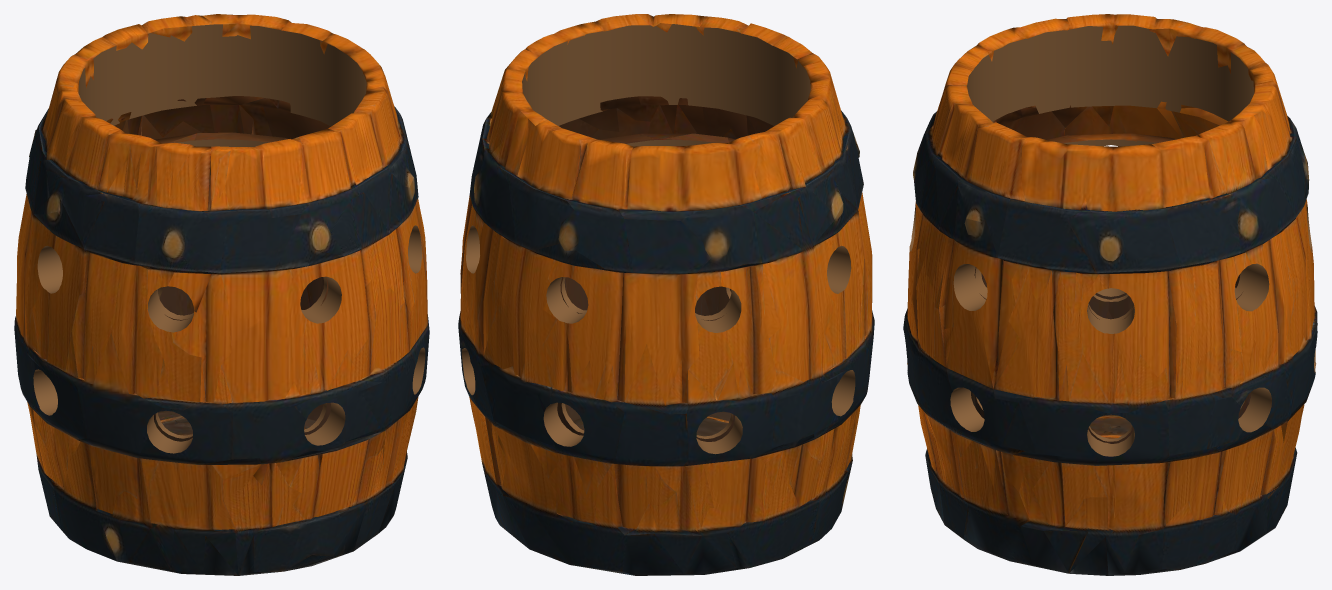
Rendered from barrel.glb.
3 views of the same model, side by side, from view 1: azimuth 30°, elevation 25°; view 2: azimuth 150°, elevation 25°; view 3: azimuth 270°, elevation 25° (orthographic).
Parts seen in each view (by area): view 1: Mesh_0; view 2: Mesh_0; view 3: Mesh_0.
Boxes of the visible parts, x1,y1,x2,y2 form: Mesh_0: (14,14,429,575); Mesh_0: (458,14,874,575); Mesh_0: (903,14,1317,575).
Bounding box in the file's own units: 2.02 × 2.25 × 2.01.
Materials: 2 (1 with a texture image).
